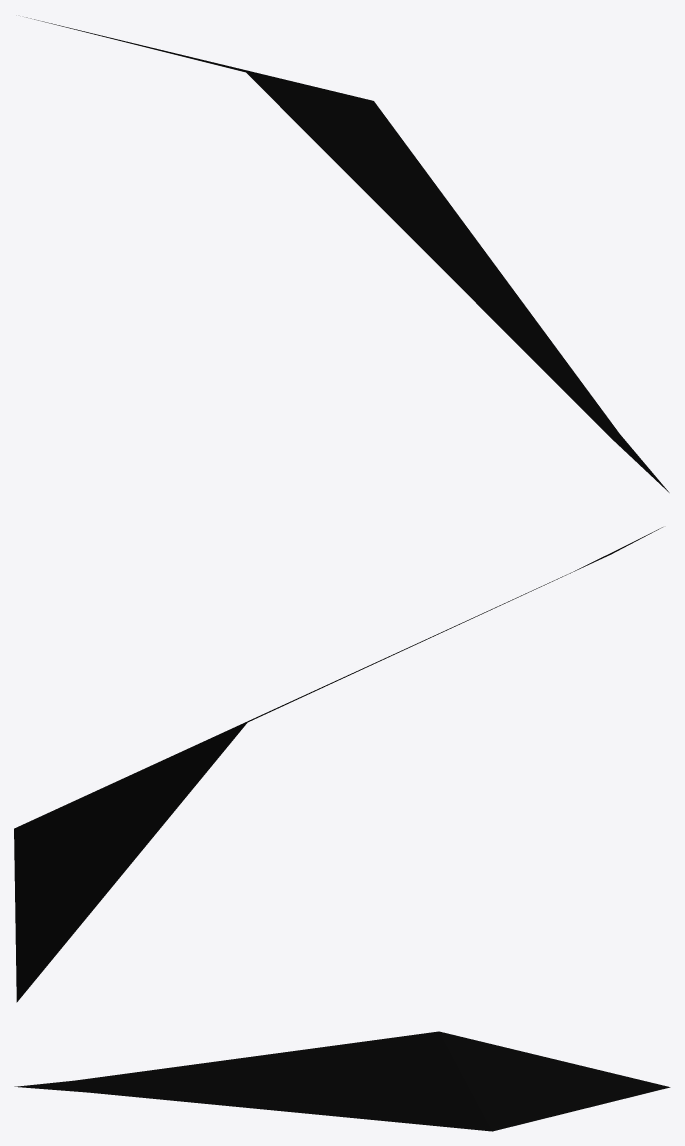
The picture shows the model from 3 angles, top to bottom: view 1: azimuth 30°, elevation 25°; view 2: azimuth 150°, elevation 25°; view 3: azimuth 270°, elevation 25°; orthographic projection. The views are drawn at different scales.
Bounding box in the file's own units: 0.00163 × 0.000961 × 0.0102.
Materials: 1 (1 with a texture image).
